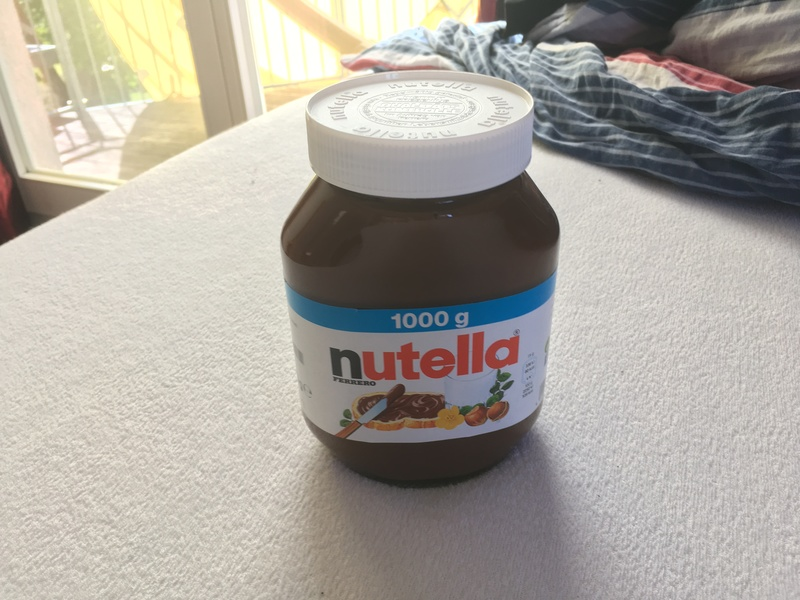nutella: (281, 69, 561, 486)
